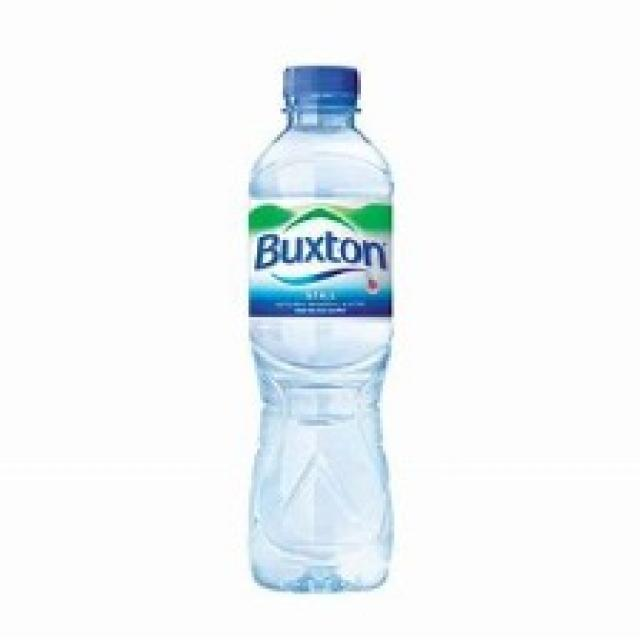plastic_bottle: (239, 64, 407, 595)
